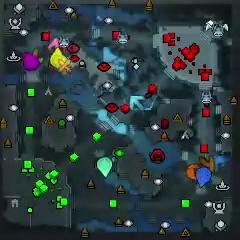p1: (195, 166, 213, 187)
p2: (97, 156, 113, 179)
p3: (22, 51, 38, 72)
p4: (50, 49, 67, 69)
p5: (186, 163, 200, 181)
x1: (48, 37, 65, 51)
x2: (33, 50, 43, 65)
x3: (130, 94, 145, 112)
x5: (198, 156, 215, 172)
